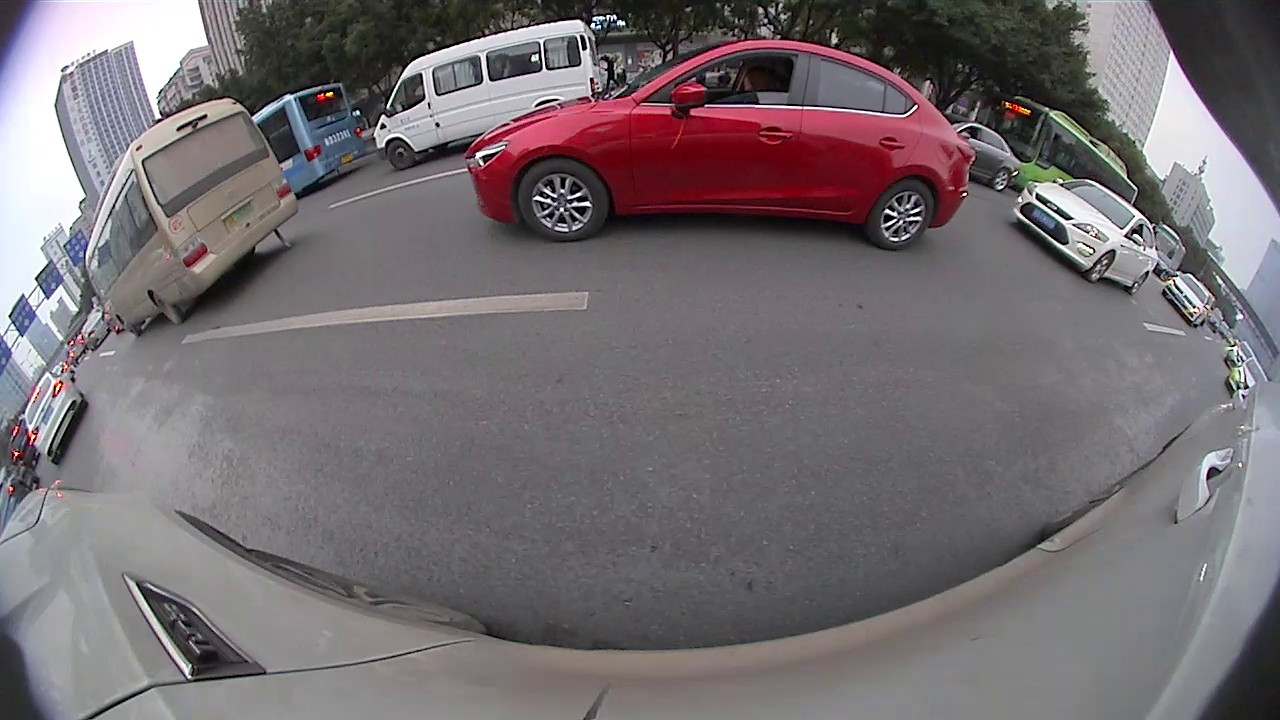bus: (84, 97, 299, 334), (990, 97, 1139, 205), (250, 83, 368, 195)
car: (465, 41, 976, 247), (374, 19, 596, 171), (1017, 179, 1160, 294), (24, 368, 88, 462), (943, 125, 1021, 189), (1163, 272, 1214, 328)
front: (518, 163, 607, 238), (1088, 253, 1115, 281), (389, 139, 413, 168), (117, 315, 141, 333)
rear: (868, 179, 934, 249), (152, 293, 184, 324), (990, 168, 1009, 191), (1129, 272, 1147, 295)
